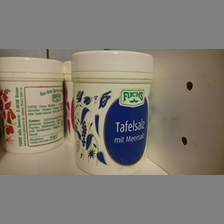spices: (70, 50, 154, 174), (1, 56, 66, 154)
